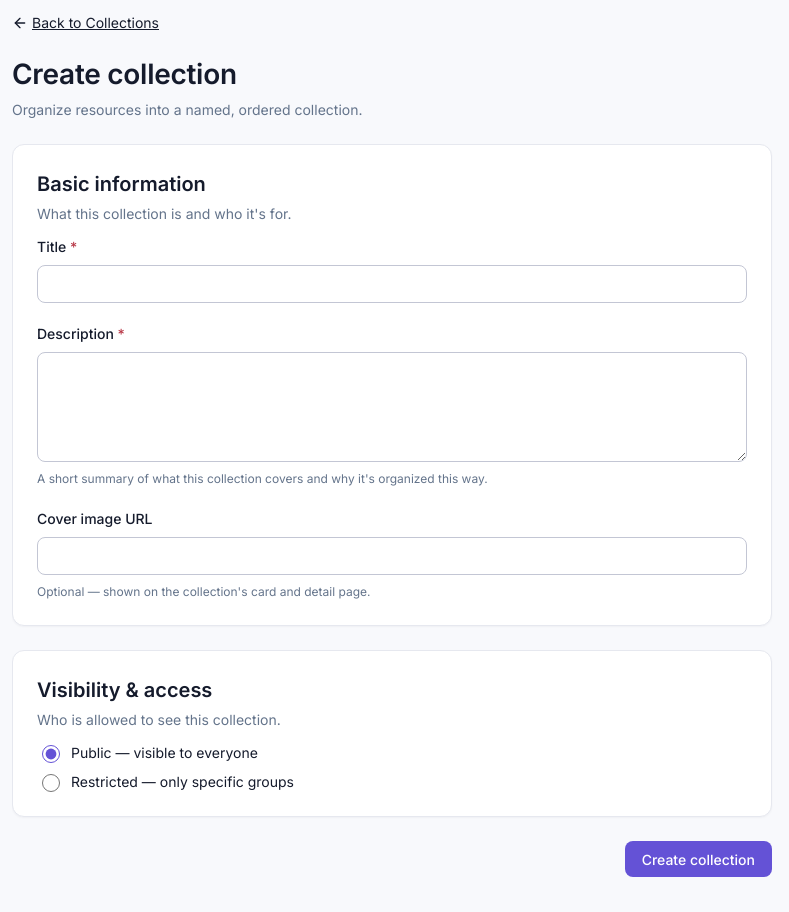
CreateCollectionPage › requires title and description before submitting
Click the button "Create collection" at coordinates (698, 859), box [625,841,772,877]
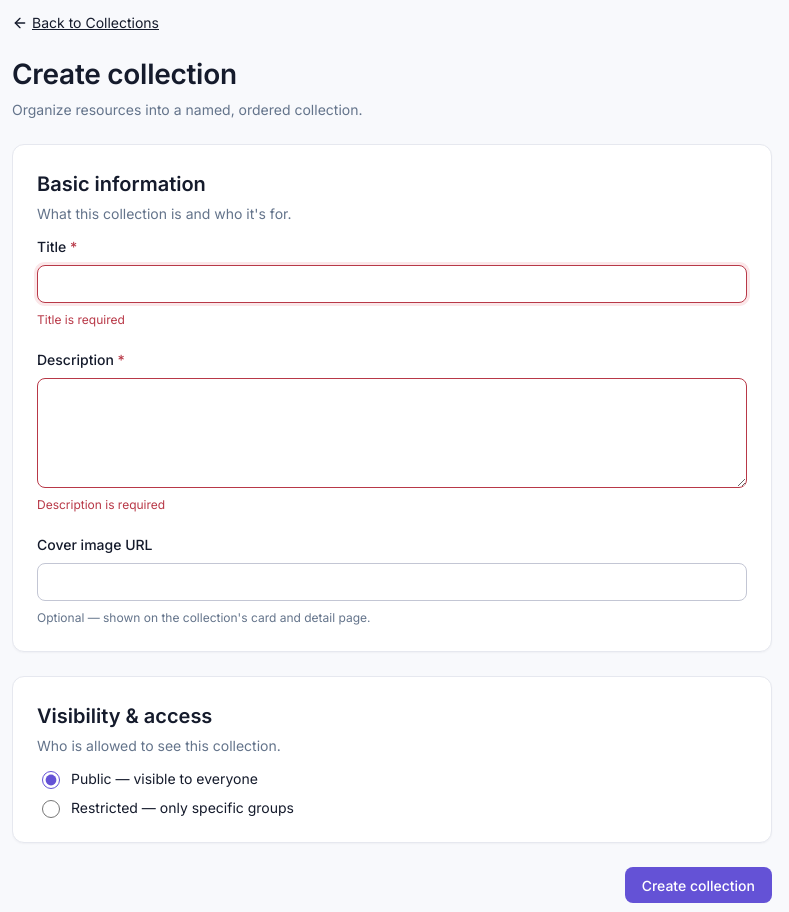
expect the text "Title is required" is shown: met, box [37,312,125,327]
expect the text "Description is required" is shown: met, box [37,497,165,512]
